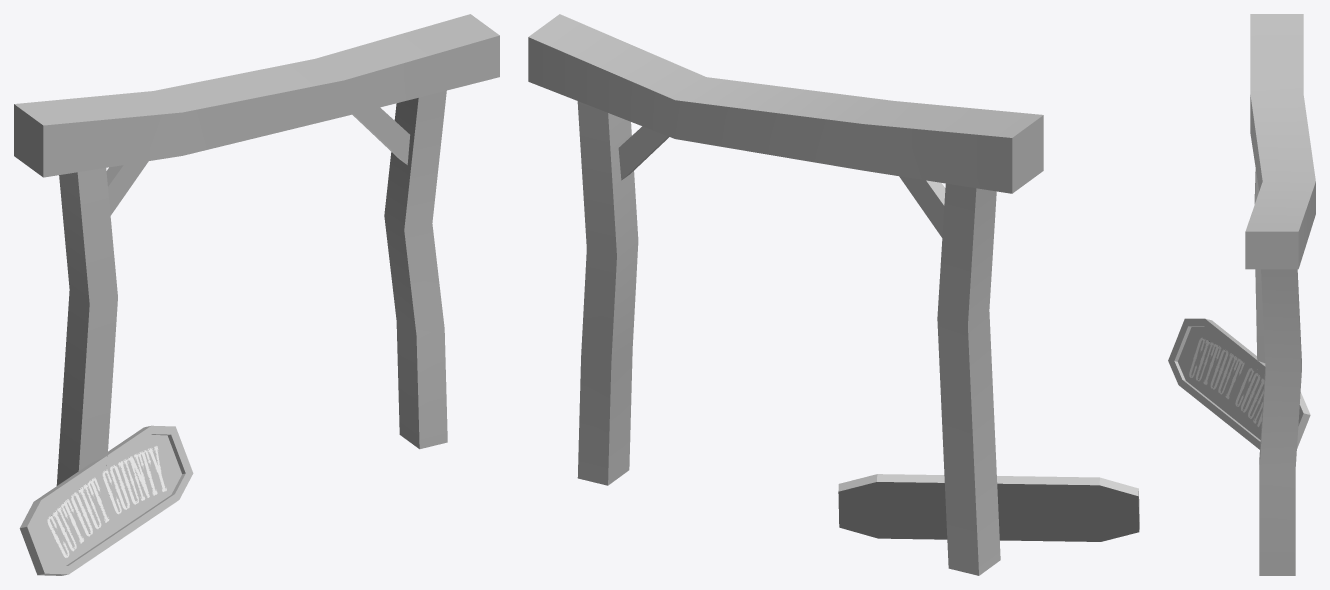
The model's file is SM_GATE.fbx.
3 renders of one model, left to right at view 1: azimuth 30°, elevation 25°; view 2: azimuth 150°, elevation 25°; view 3: azimuth 270°, elevation 25°, orthographic. The views are drawn at different scales.
Visible parts, largest first — view 1: SM_GATE; view 2: SM_GATE; view 3: SM_GATE.
Part boxes in pixels (x1,y1,x2,y2): SM_GATE: [14, 14, 499, 575]; SM_GATE: [528, 14, 1139, 575]; SM_GATE: [1168, 14, 1315, 575].
Bounding box in the file's own units: 615 × 484 × 170.
